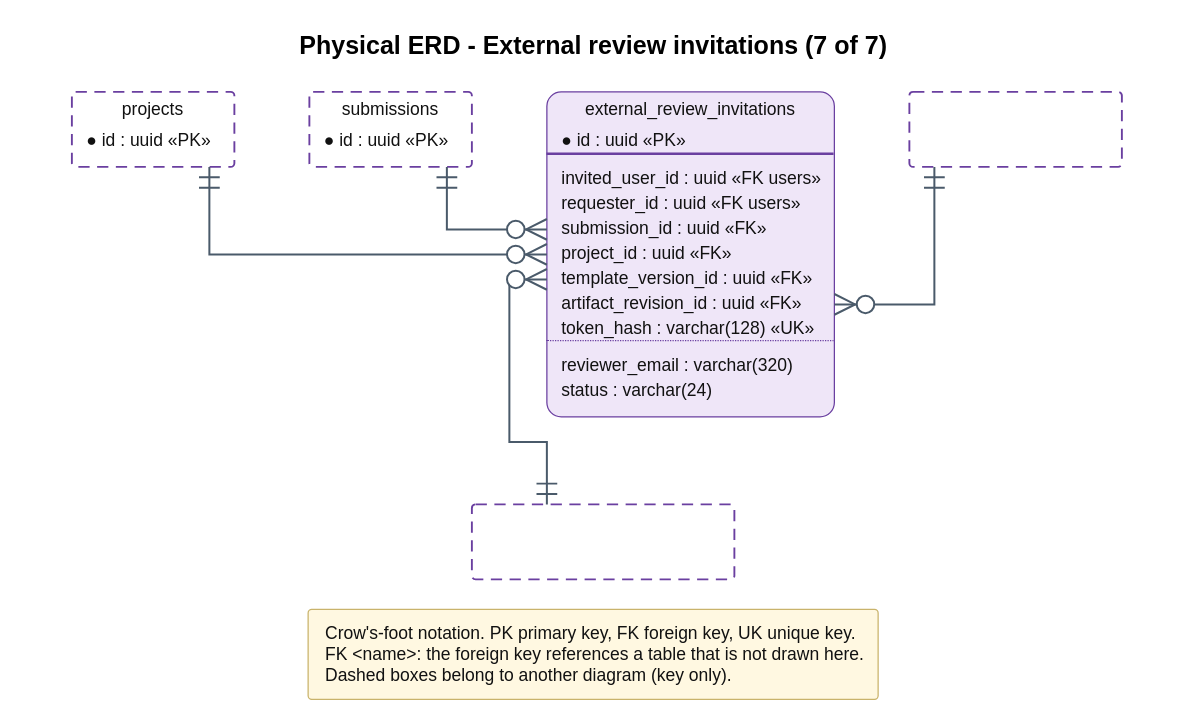
This 1185x721 diagram has some shape labels left out. Here are the shapes that lost their labels. From the top down, the box of each, then its label:
(908, 90, 1122, 167): submission_revisions ● id : uuid «PK»
(470, 503, 735, 580): review_template_versions ● id : uuid «PK»
